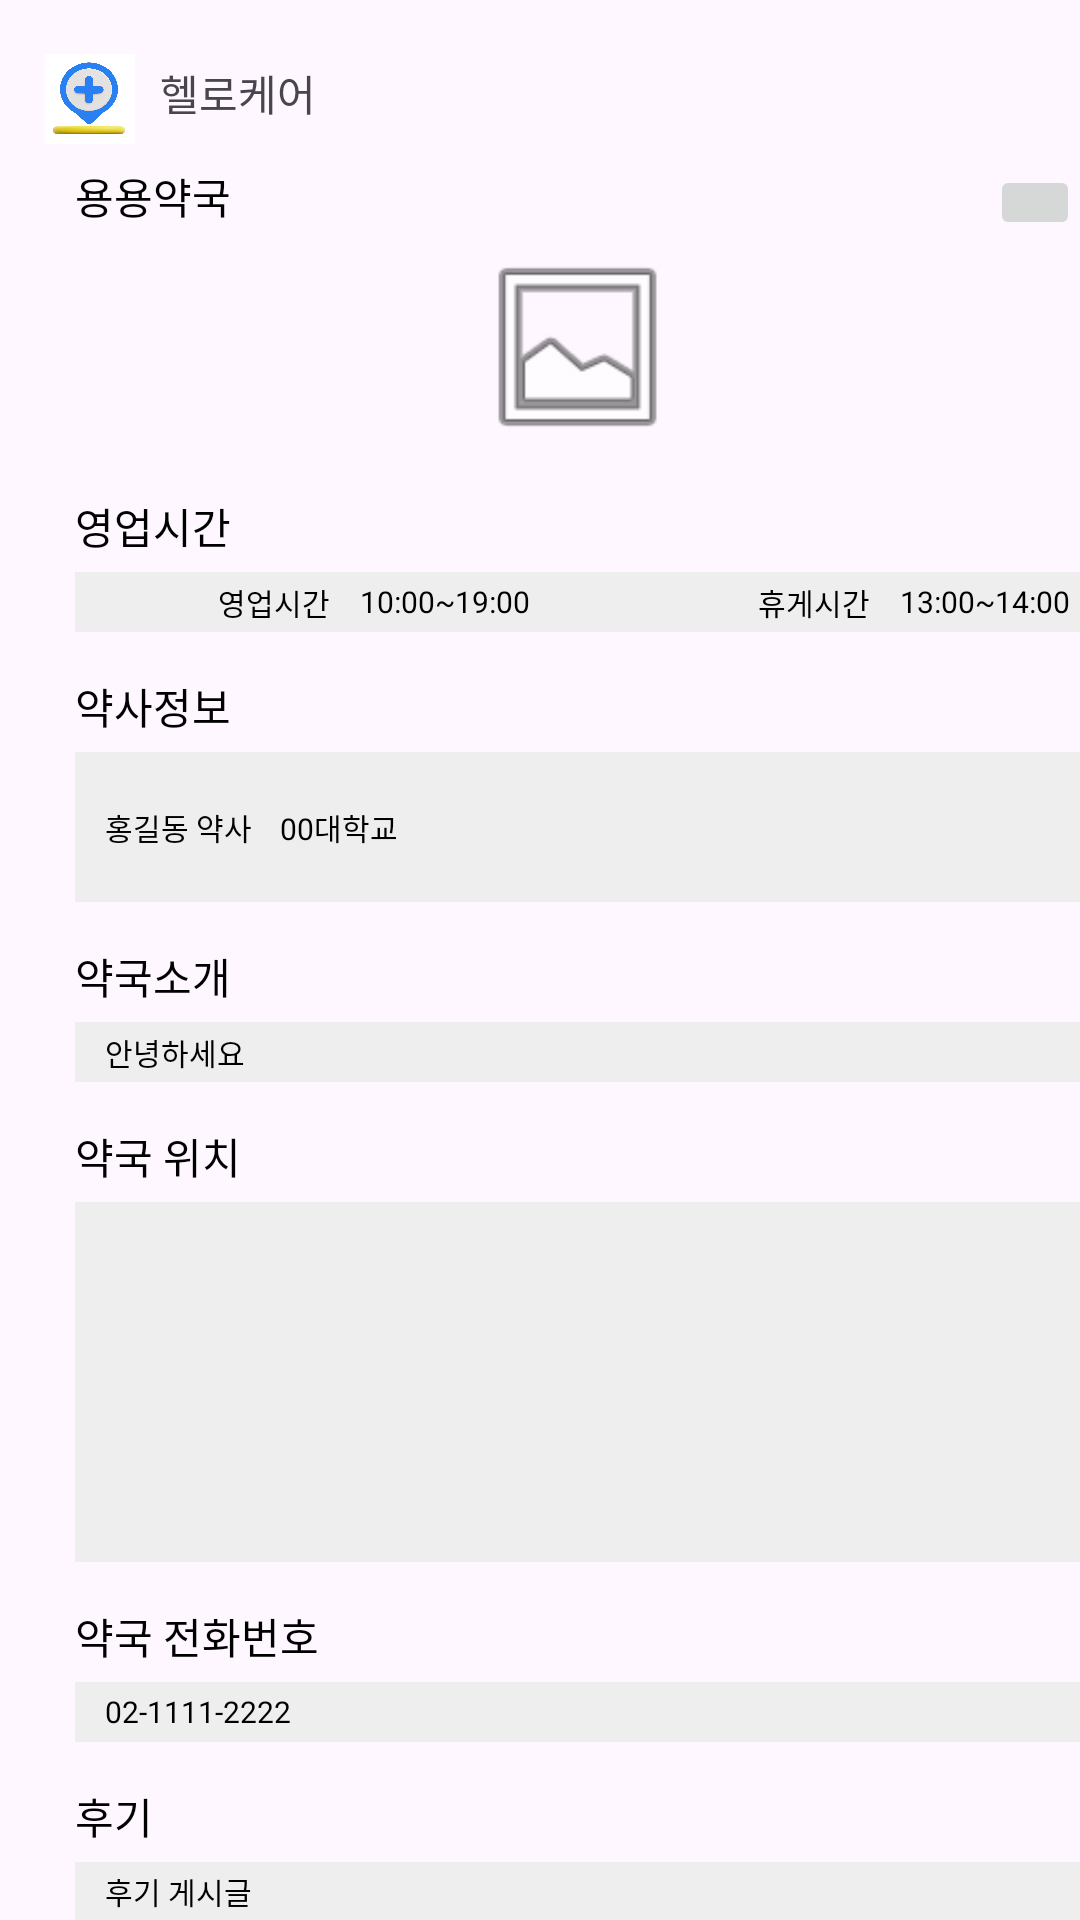

Icon bounding boxes for this 1080 × 1920 phone screenshot, format (x1, y1, x2, y2):
gallery: (498, 268, 657, 426)
